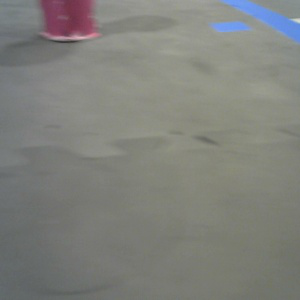middle: (39, 1, 100, 41)
